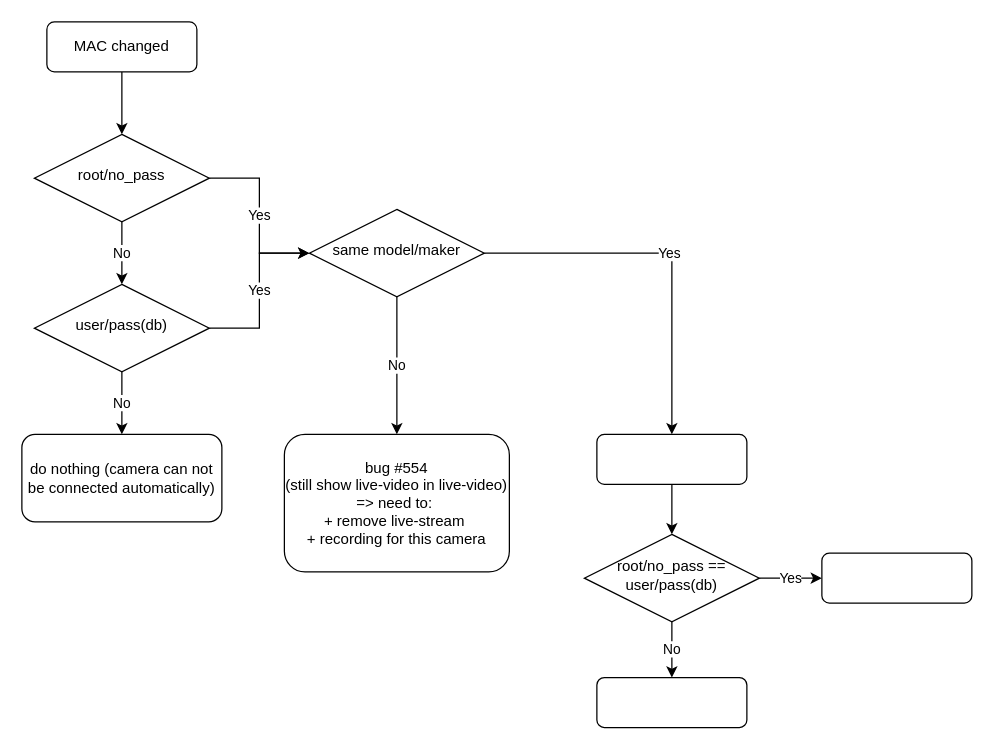
This 994x750 diagram has some shape labels left out. The shapes that lost their labels are listed below. From the top down, each one's centre as x and y in pixels, then its label:
the point at 671,458: update db
the point at 896,577: do nothing
the point at 671,702: update camera to user/pass(db)
